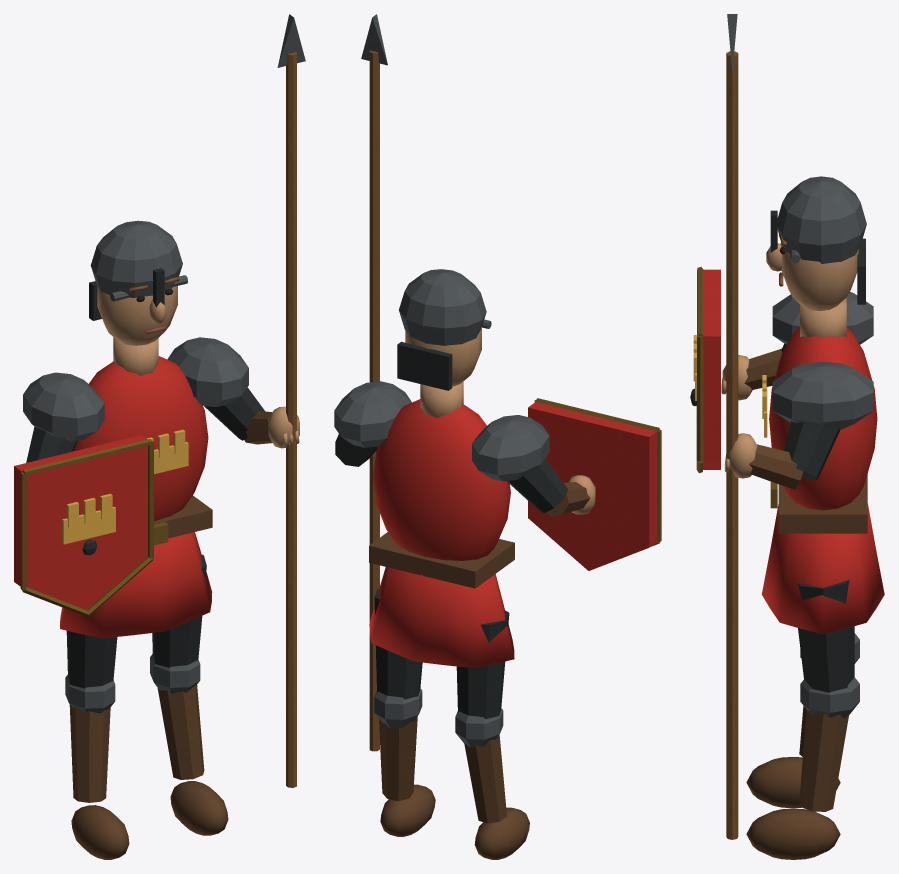
The model's file is SM_Lancero_A_LOD0.fbx.
3 views of the same model, side by side, from view 1: azimuth 30°, elevation 25°; view 2: azimuth 150°, elevation 25°; view 3: azimuth 270°, elevation 25° (orthographic). The views are drawn at different scales.
Parts seen in each view (by area): view 1: SM_Lancero_A_LOD0; view 2: SM_Lancero_A_LOD0; view 3: SM_Lancero_A_LOD0.
Part boxes in pixels (x1,y1,x2,y2): SM_Lancero_A_LOD0: (14,14,305,859); SM_Lancero_A_LOD0: (334,14,661,859); SM_Lancero_A_LOD0: (690,14,884,859).
Bounding box in the file's own units: 0.2116 × 0.554 × 0.1113.
Materials: 1 (1 with a texture image).
